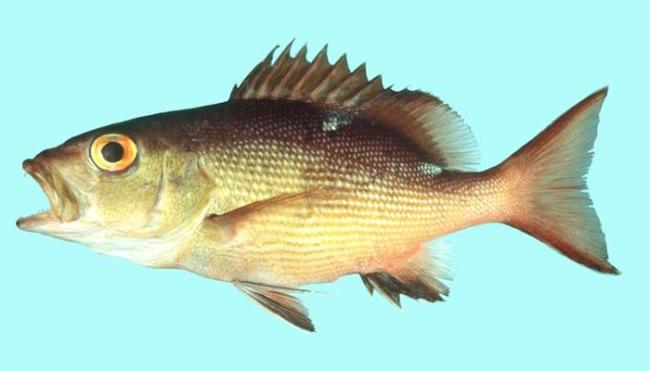fish: (14, 36, 624, 333)
